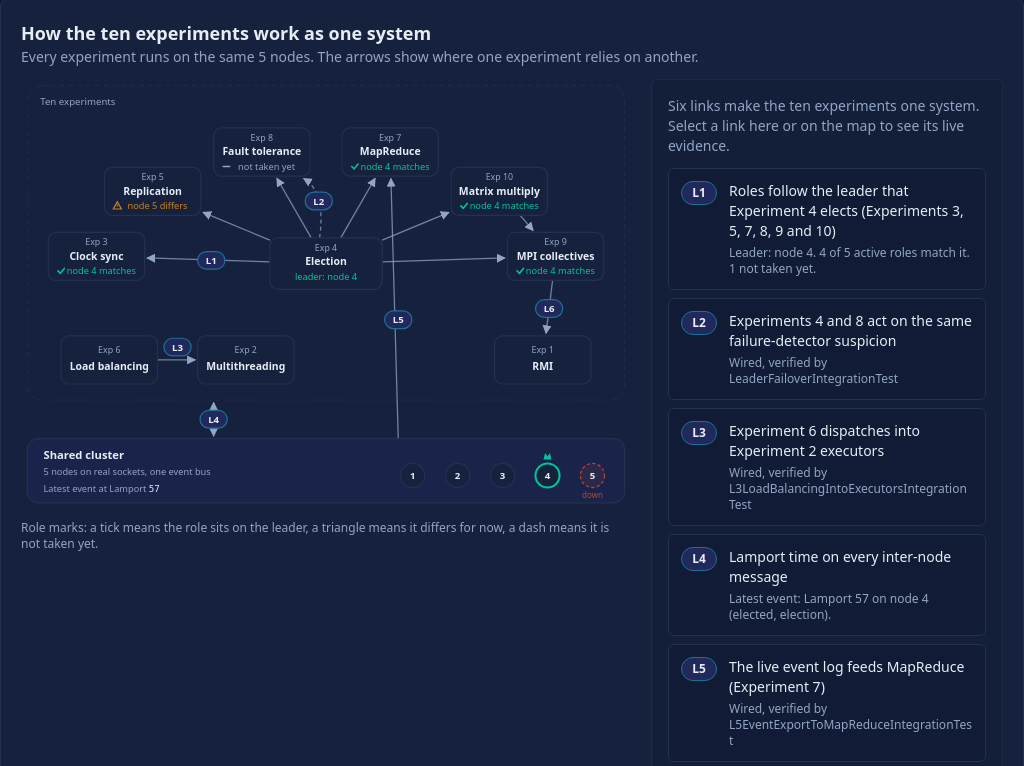
Test: IntegrationSection › the L1 panel shows every role with "matches leader", and the mismatch with its reason
Click the button "L1".
click(827, 229)  # box [668, 168, 986, 290]
(page scrolled)
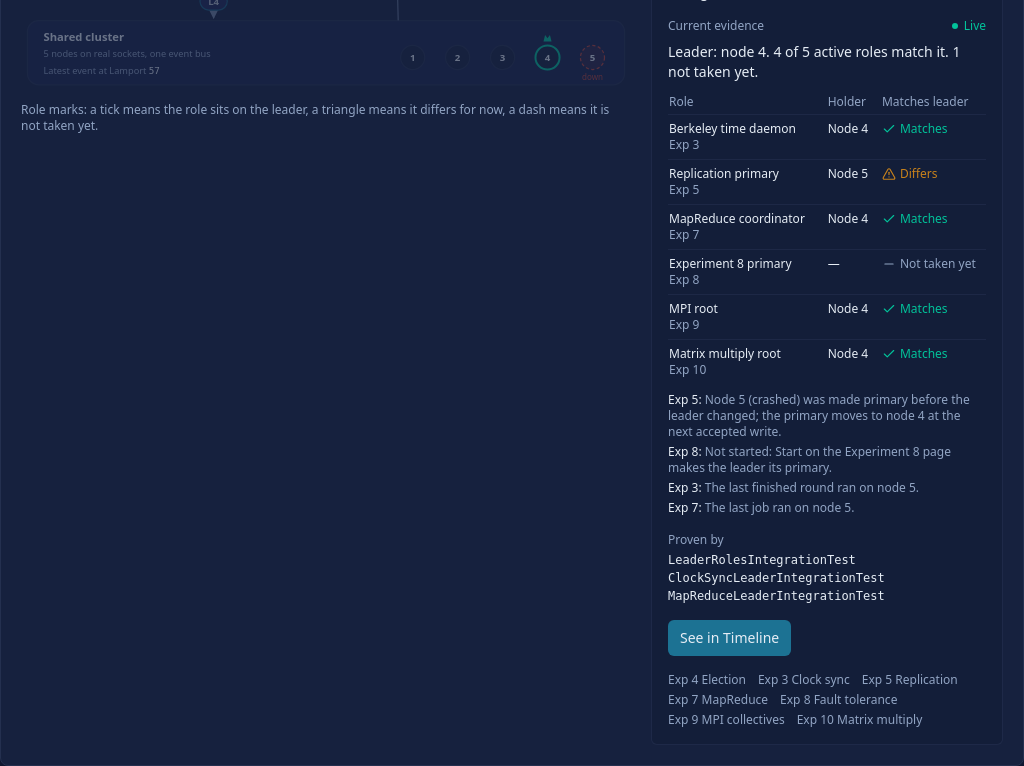
Now the row "Replication primary Exp 5 Node 5 Differs" is shown, box [668, 160, 986, 204]
